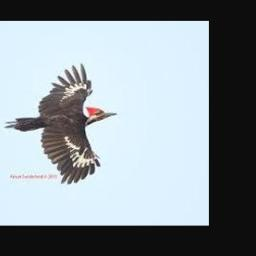Woodpecker: (4, 62, 116, 183)
